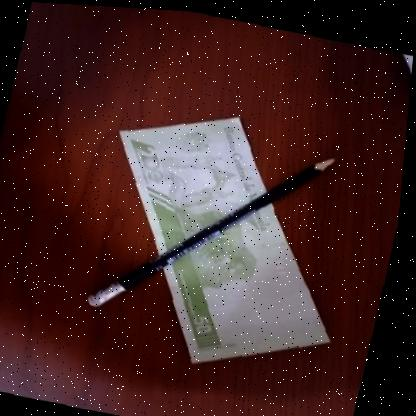fifty-back-vef: (75, 91, 378, 385)
